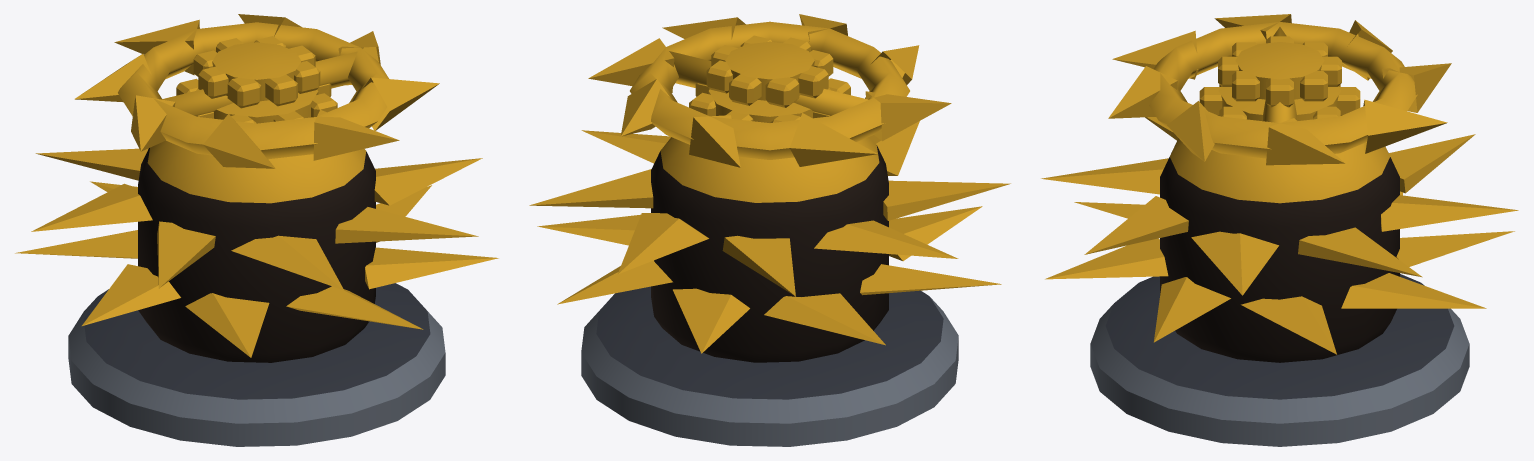
The picture shows the model from 3 angles, left to right: view 1: azimuth 30°, elevation 25°; view 2: azimuth 150°, elevation 25°; view 3: azimuth 270°, elevation 25°; orthographic projection.
Visible parts, largest first — view 1: tachinha_1_torreta, tachinha_0_base; view 2: tachinha_1_torreta, tachinha_0_base; view 3: tachinha_1_torreta, tachinha_0_base.
Boxes of the visible parts, x1,y1,x2,y2 form: tachinha_1_torreta: (15,14,498,362); tachinha_0_base: (68,283,445,446); tachinha_1_torreta: (529,14,1010,362); tachinha_0_base: (581,286,958,446); tachinha_1_torreta: (1041,14,1518,362); tachinha_0_base: (1090,274,1469,446).
Size of the model in its own units: 0.8601 by 0.615 by 0.8601.
